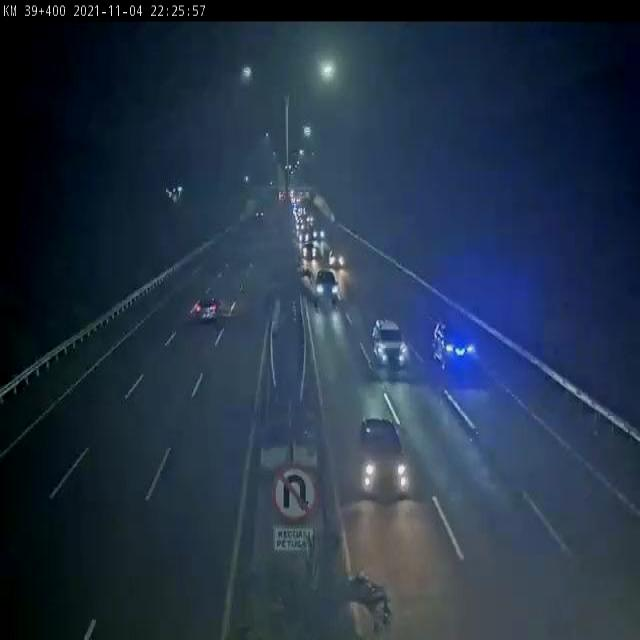Car: (360, 417, 409, 500), (433, 320, 478, 374), (370, 319, 407, 372), (316, 269, 341, 304), (196, 297, 217, 322), (328, 249, 350, 272), (302, 244, 317, 261), (306, 214, 316, 230), (298, 231, 310, 244), (314, 230, 325, 242), (296, 222, 306, 234), (256, 210, 265, 222)
